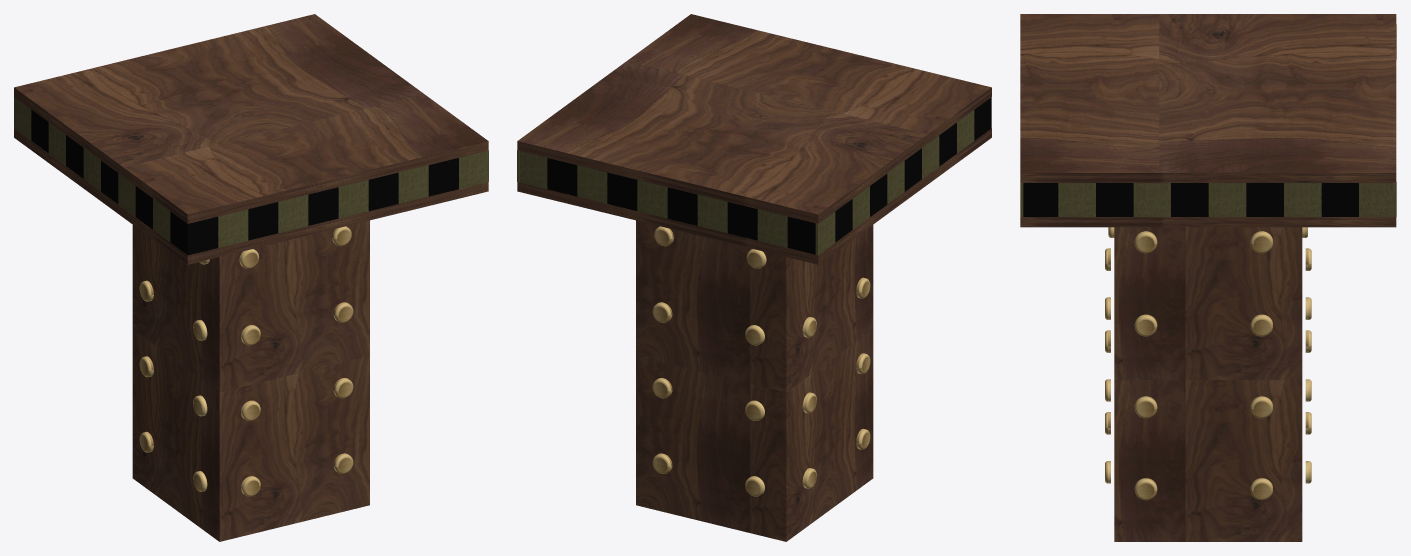
Rendered from TOTEM SIDETABLE.glb.
3 renders of one model, left to right at view 1: azimuth 30°, elevation 25°; view 2: azimuth 150°, elevation 25°; view 3: azimuth 270°, elevation 25°, orthographic. The views are drawn at different scales.
Bounding box in the file's own units: 0.5006 × 0.5997 × 0.5006.
Materials: 4 (3 with a texture image).
